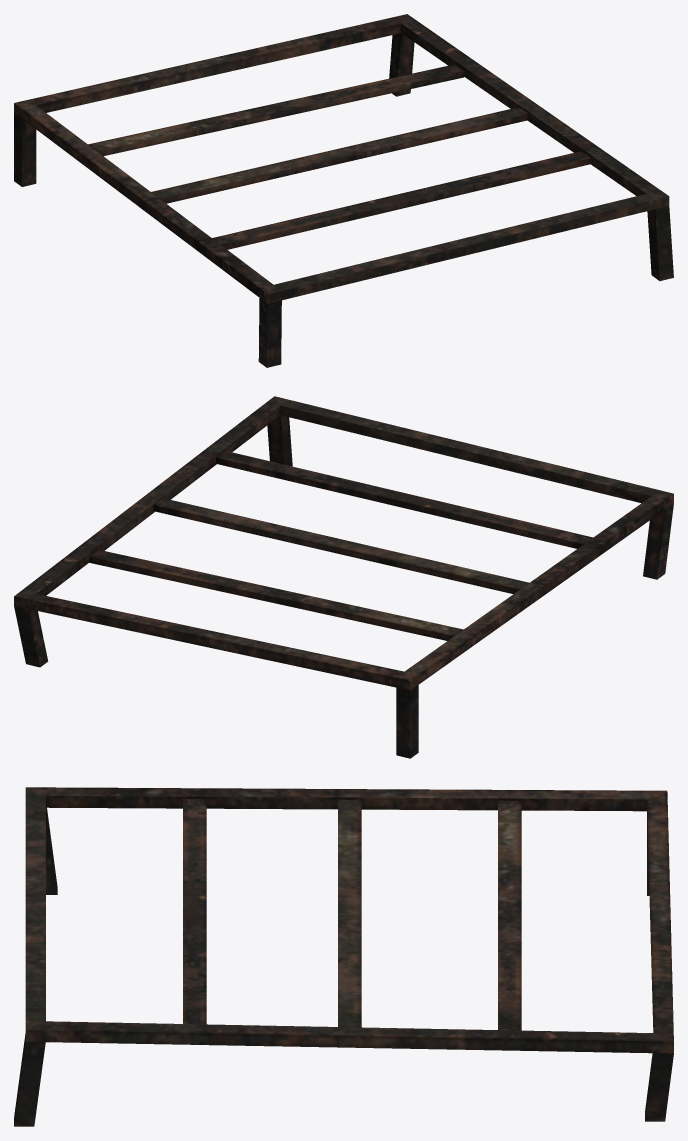
Rendered from WaterTank_Base_S.FBX.
3 views of the same model, one above another, from view 1: azimuth 30°, elevation 25°; view 2: azimuth 150°, elevation 25°; view 3: azimuth 270°, elevation 25° (orthographic). The views are drawn at different scales.
Parts seen in each view (by area): view 1: WaterTank_Base_S; view 2: WaterTank_Base_S; view 3: WaterTank_Base_S.
Part boxes in pixels (<box>): WaterTank_Base_S: <box>14,14,673,367</box>; WaterTank_Base_S: <box>14,396,673,758</box>; WaterTank_Base_S: <box>14,787,673,1126</box>.
Bounding box in the file's own units: 167 × 31.08 × 192.
